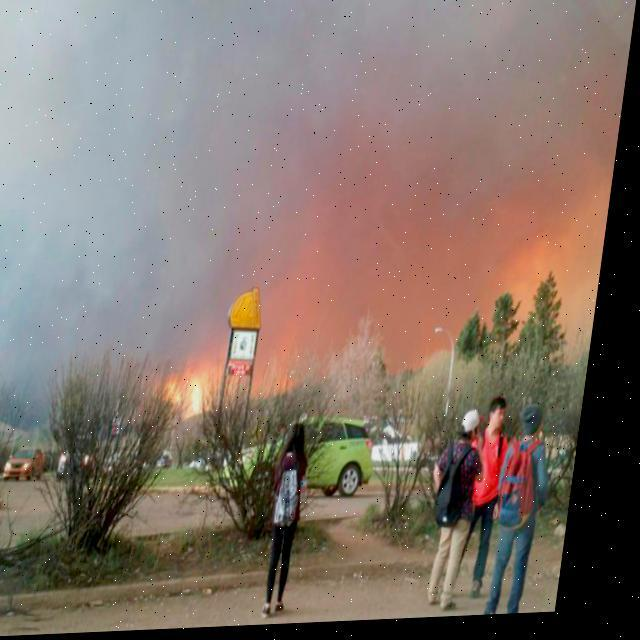Fire: (165, 338, 233, 413)
